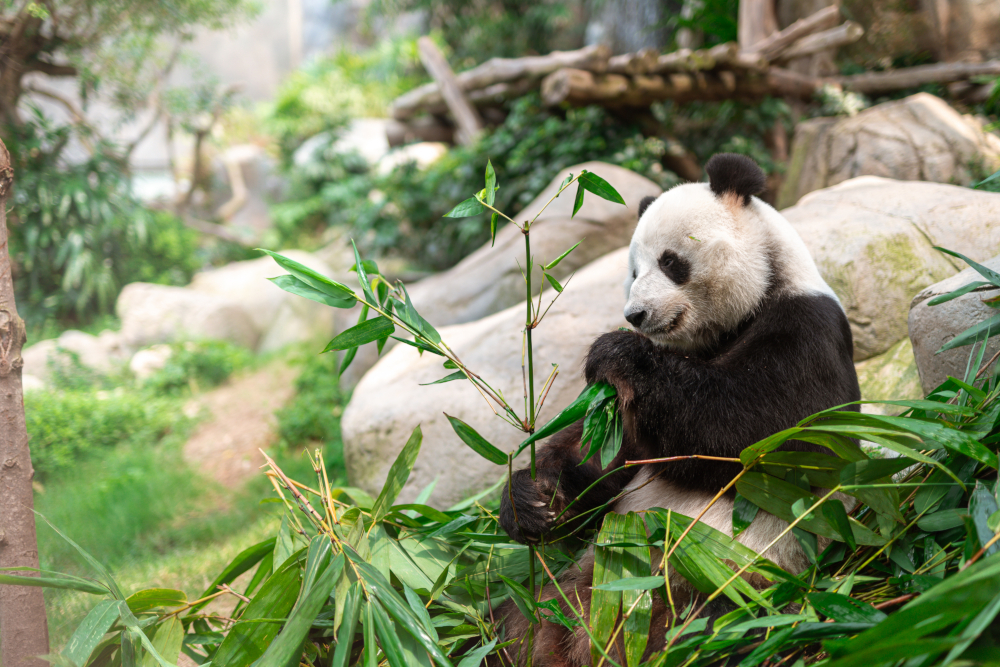Giant panda: (603, 149, 776, 345)
